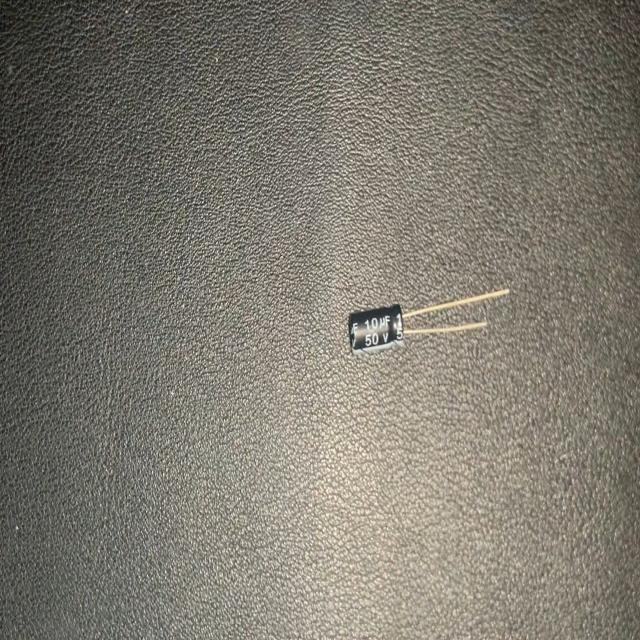capacitor: (348, 287, 512, 356)
